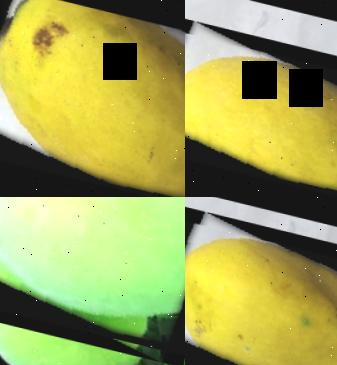Ripe: (0, 0, 185, 197), (185, 26, 337, 197), (185, 217, 337, 365)
Unripe: (0, 197, 185, 356)
